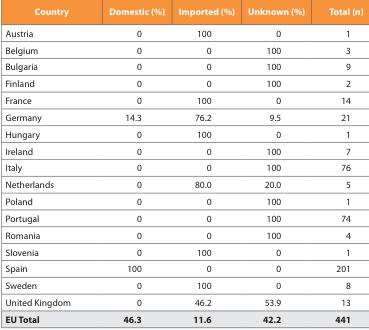table: (4, 4, 362, 324)
table column: (4, 4, 89, 324), (89, 4, 170, 324), (240, 4, 316, 324), (170, 4, 240, 324), (316, 4, 362, 324)
table column header: (4, 4, 362, 21)
table row: (4, 21, 362, 40), (4, 4, 362, 21), (4, 40, 362, 57), (4, 57, 362, 74), (4, 74, 362, 91), (4, 91, 362, 108), (4, 108, 362, 125), (4, 141, 362, 158), (4, 158, 362, 175), (4, 175, 362, 192), (4, 192, 362, 209), (4, 209, 362, 226), (4, 242, 362, 259), (4, 259, 362, 276), (4, 276, 362, 293), (4, 293, 362, 310), (4, 125, 362, 141), (4, 226, 362, 242), (4, 310, 362, 324)
